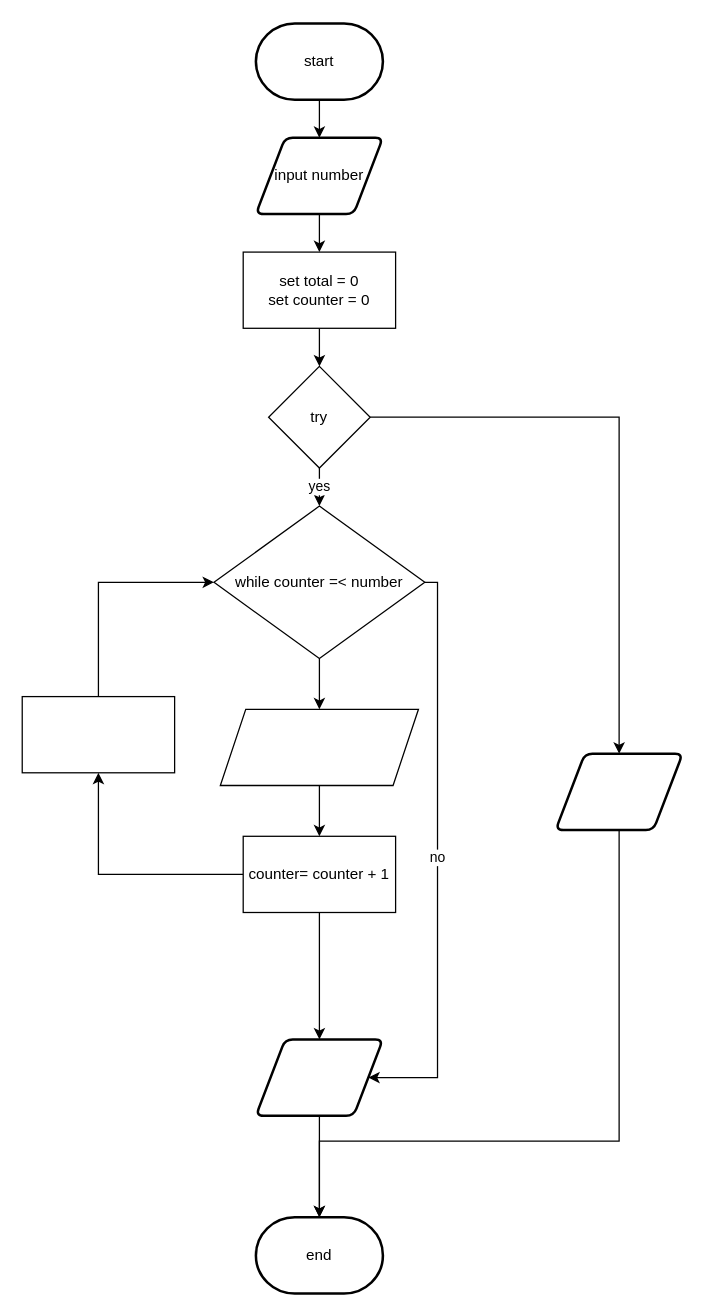
This 706x1316 diagram has some shape labels left out. The box of each missing label's shape, as (x1, y1, x2, y2) in pixels:
not a number: (554, 752, 683, 831)
output sum: (254, 1038, 384, 1116)
sum = counter + total: (219, 708, 418, 785)
total = sum: (21, 695, 175, 773)
